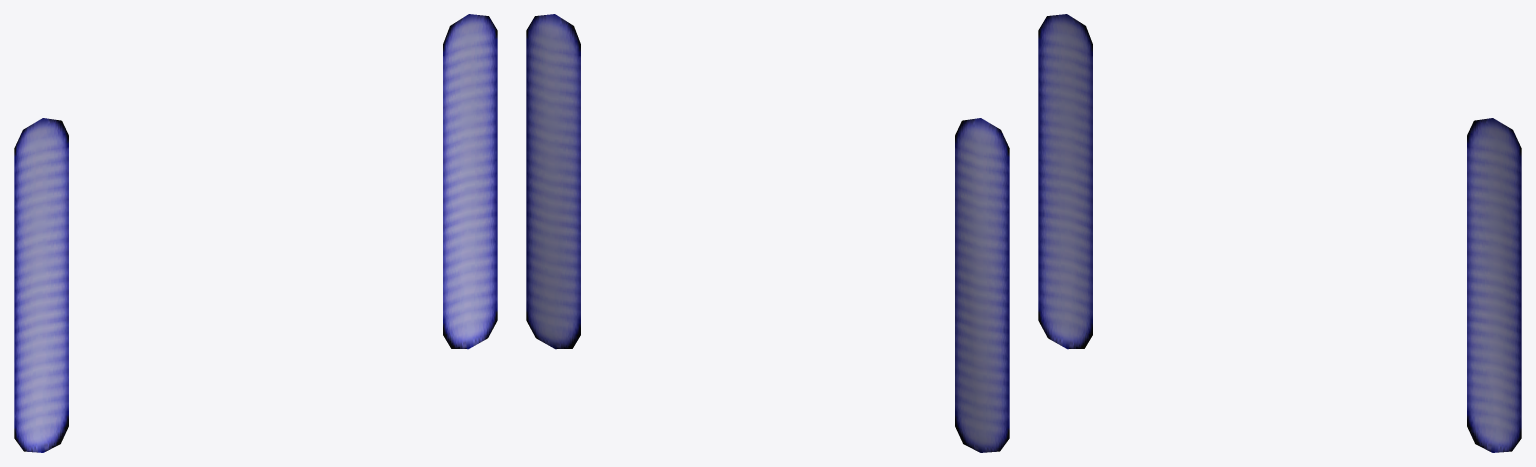
Rendered from bwing_engine_s02_on_l0.fbx.
3 renders of one model, left to right at view 1: azimuth 30°, elevation 25°; view 2: azimuth 150°, elevation 25°; view 3: azimuth 330°, elevation 25°, orthographic.
Visible parts, largest first — view 1: mesh_node; view 2: mesh_node; view 3: mesh_node.
Boxes of the visible parts, x1,y1,x2,y2 form: mesh_node: (14,14,497,452); mesh_node: (526,14,1009,452); mesh_node: (1038,14,1521,452).
Bounding box in the file's own units: 1.51 × 1 × 0.0155.
1 material, 1 textured.
